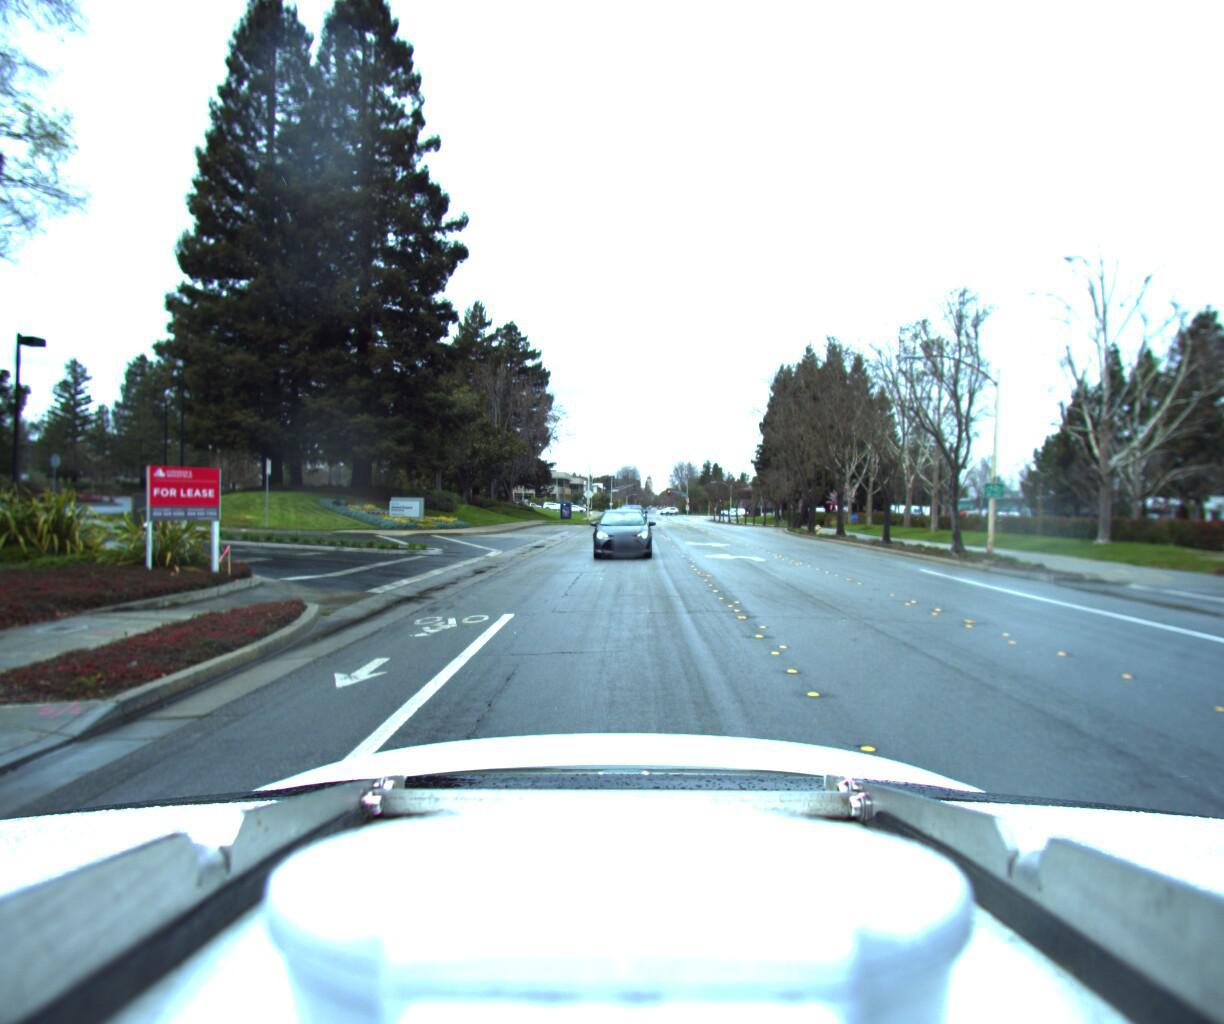car: (588, 499, 654, 556)
